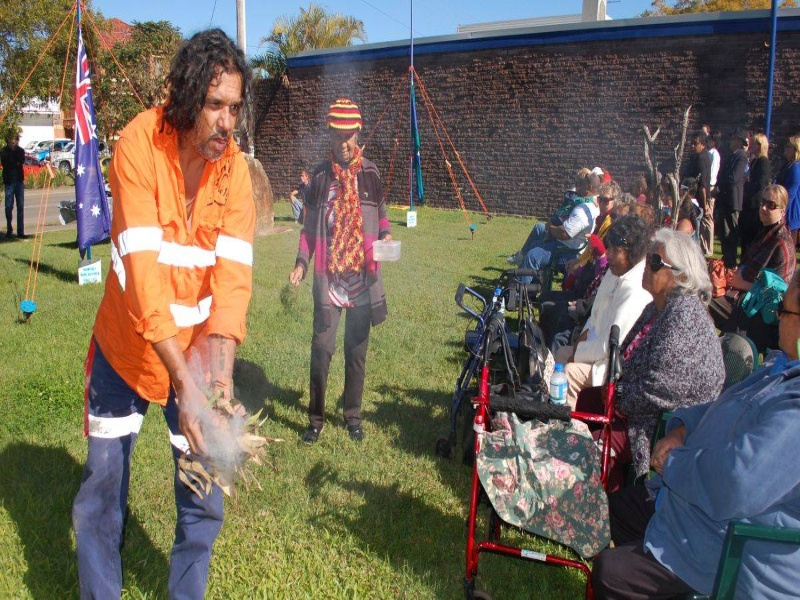smoke: (182, 359, 251, 475)
